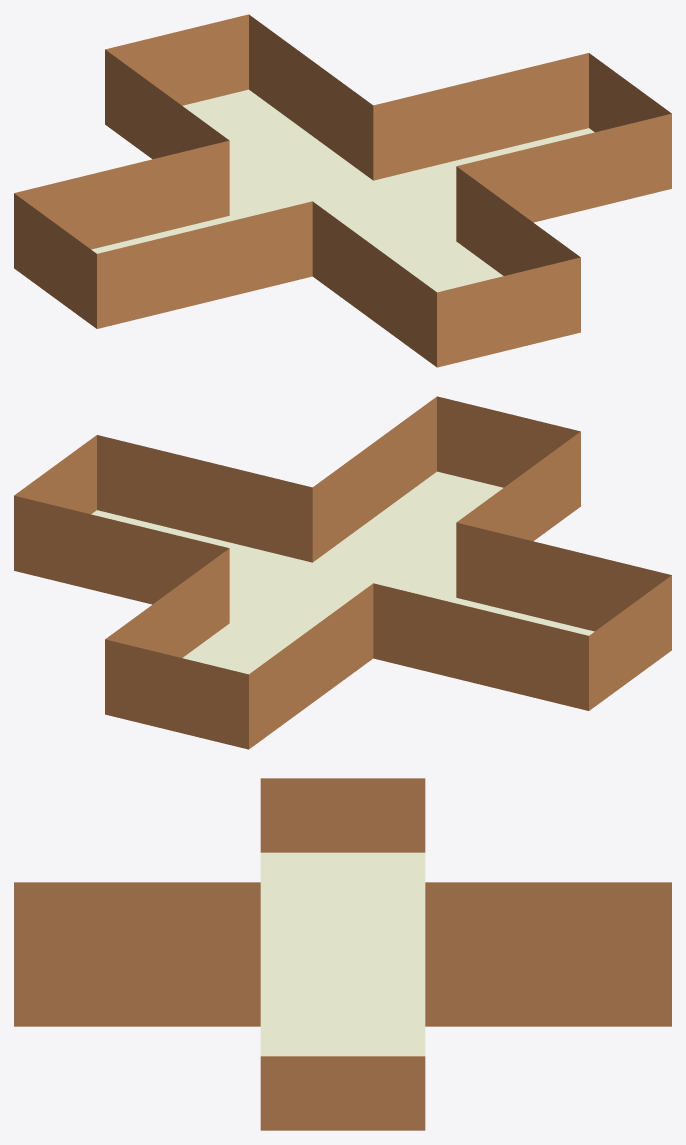
Rendered from VirtualMuseumTour.glb.
The picture shows the model from 3 angles, top to bottom: view 1: azimuth 30°, elevation 25°; view 2: azimuth 150°, elevation 25°; view 3: azimuth 270°, elevation 25°; orthographic projection.
Parts seen in each view (by area): view 1: Cube; view 2: Cube; view 3: Cube.
Boxes of the visible parts, x1,y1,x2,y2 form: Cube: (14,14,671,367); Cube: (14,396,671,749); Cube: (14,778,671,1130).
Bounding box in the file's own units: 16 × 2 × 16.
